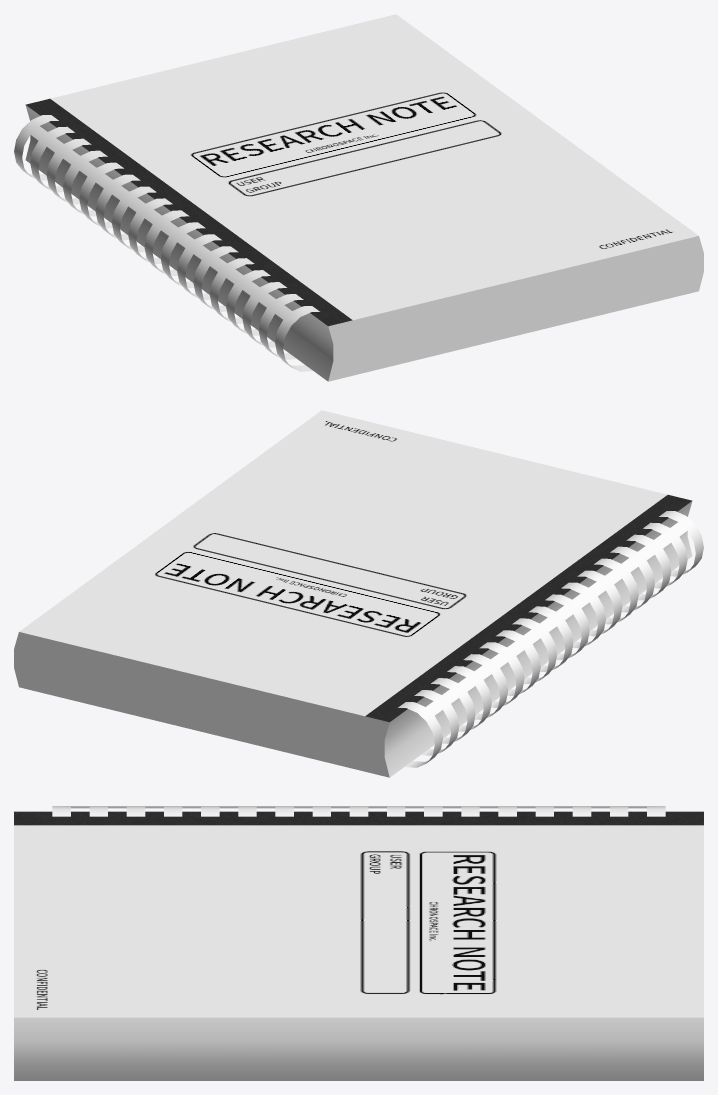
File: npc_note.dae
3 renders of one model, top to bottom at view 1: azimuth 30°, elevation 25°; view 2: azimuth 150°, elevation 25°; view 3: azimuth 270°, elevation 25°, orthographic. The views are drawn at different scales.
Visible parts, largest first — view 1: Plane; view 2: Plane; view 3: Plane.
Boxes of the visible parts, x1=… form: Plane: x1=14, y1=14, x2=703, y2=381; Plane: x1=14, y1=410, x2=703, y2=777; Plane: x1=14, y1=806, x2=703, y2=1080.
Bounding box in the file's own units: 2.29 × 2.97 × 0.32.
Materials: 3 (2 with a texture image).
